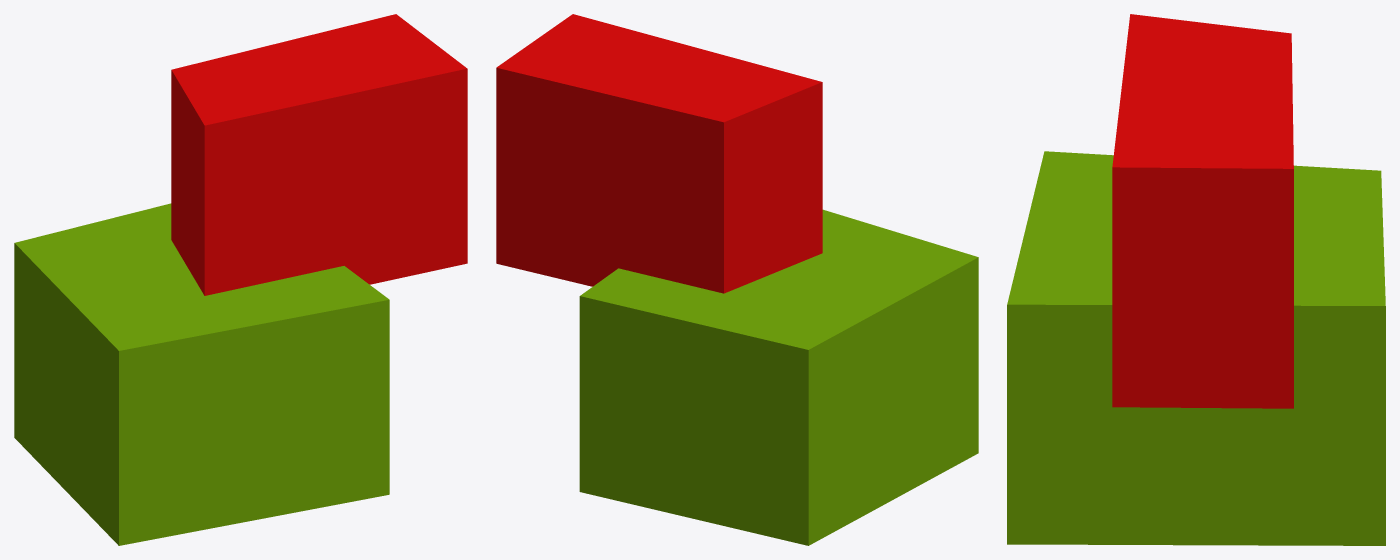
Rendered from SM_T_Head.fbx.
3 views of the same model, side by side, from view 1: azimuth 30°, elevation 25°; view 2: azimuth 150°, elevation 25°; view 3: azimuth 270°, elevation 25° (orthographic). The views are drawn at different scales.
Parts seen in each view (by area): view 1: polySurface2; view 2: polySurface2; view 3: polySurface2.
Part boxes in pixels (<box>): polySurface2: <box>14,14,467,545</box>; polySurface2: <box>496,14,978,545</box>; polySurface2: <box>1007,14,1385,545</box>.
Bounding box in the file's own units: 51.98 × 47.93 × 36.6.
